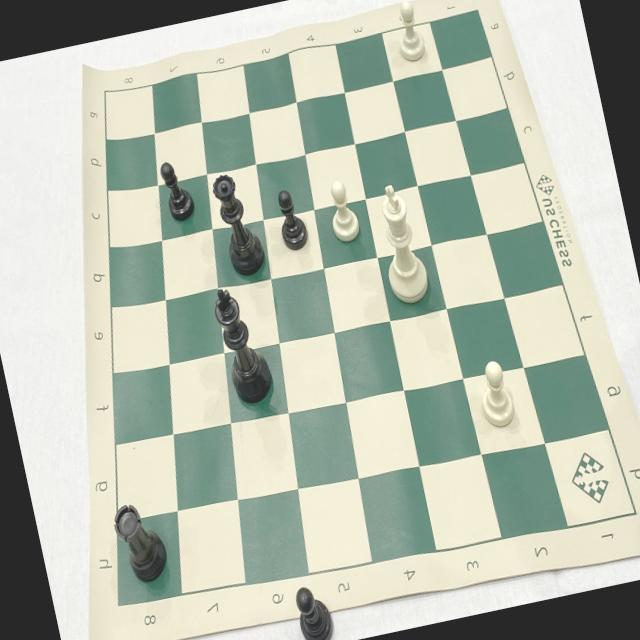black-king: (204, 278, 282, 414)
black-pawn: (269, 183, 316, 260), (155, 152, 199, 225)
black-queen: (207, 156, 270, 285)
black-rook: (109, 492, 180, 592)
white-king: (366, 174, 440, 313)
white-pawn: (468, 352, 526, 436), (320, 170, 368, 248), (385, 0, 434, 70)
